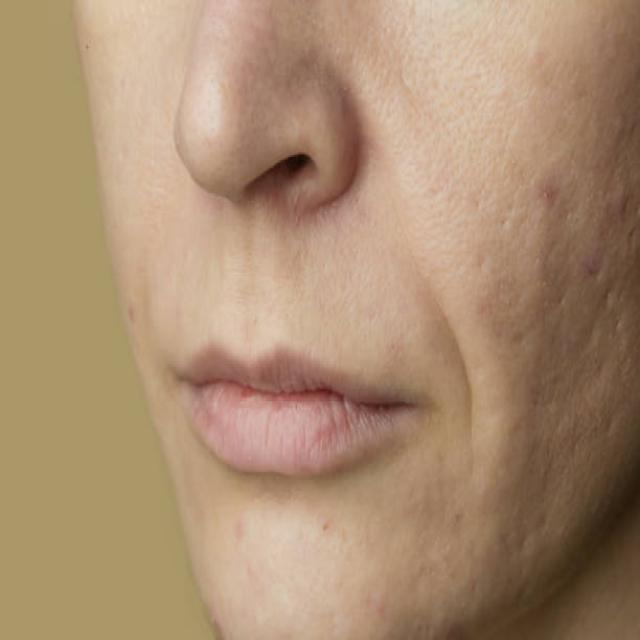Dry-Skin: (400, 54, 545, 260), (301, 451, 453, 640), (145, 98, 198, 345), (186, 427, 256, 612), (226, 10, 296, 188), (318, 234, 398, 385), (558, 148, 626, 295), (493, 396, 546, 506), (560, 44, 587, 129)
